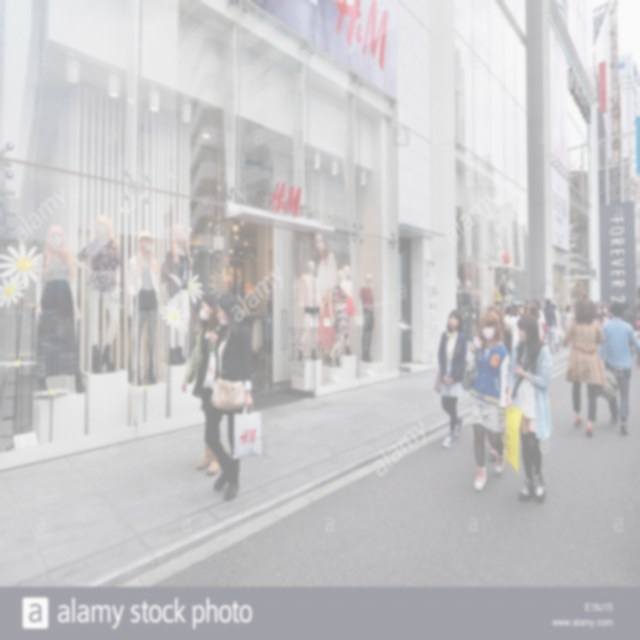pessoa: (28, 212, 199, 404), (202, 292, 264, 504), (298, 228, 376, 368), (459, 309, 512, 494), (504, 313, 554, 503), (180, 292, 223, 476), (560, 297, 608, 438), (596, 300, 640, 434), (432, 308, 469, 450), (486, 305, 520, 375), (456, 278, 480, 344), (220, 253, 246, 306), (493, 274, 518, 328), (542, 298, 558, 355), (628, 296, 640, 356), (532, 299, 546, 344), (528, 304, 544, 343), (561, 304, 575, 348), (550, 302, 562, 352), (569, 227, 585, 258), (620, 302, 636, 332), (574, 278, 588, 302), (517, 300, 531, 322), (572, 168, 582, 198), (588, 298, 600, 322), (598, 310, 610, 328), (600, 302, 609, 318), (606, 300, 612, 321), (570, 306, 576, 321)
